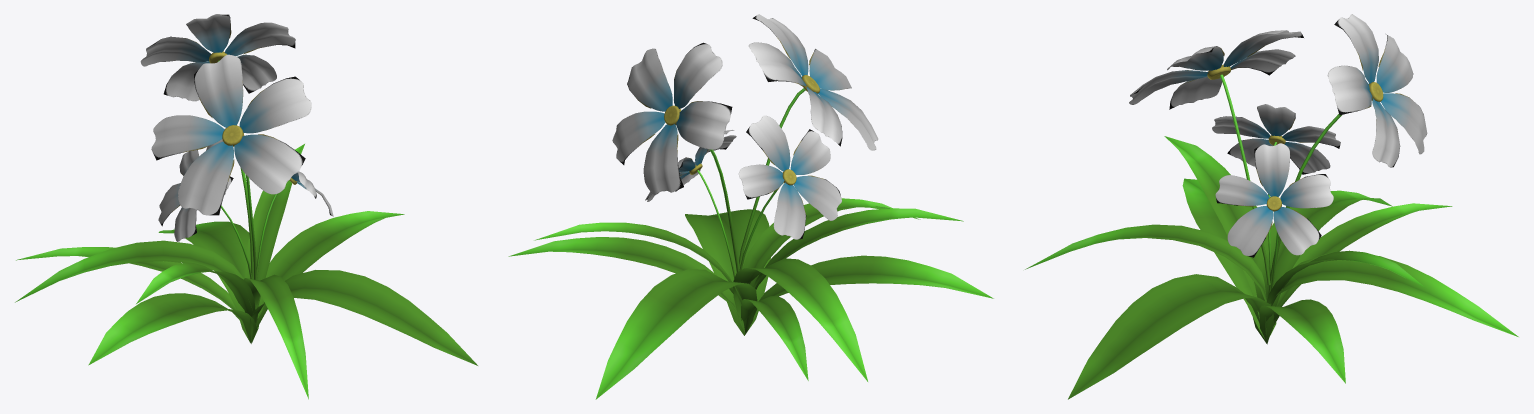
The model's file is SM_Plant_Flower_Big.fbx.
The picture shows the model from 3 angles, left to right: view 1: azimuth 30°, elevation 25°; view 2: azimuth 150°, elevation 25°; view 3: azimuth 270°, elevation 25°; orthographic projection. The views are drawn at different scales.
Visible parts, largest first — view 1: SM_Plant_Flower_Big; view 2: SM_Plant_Flower_Big; view 3: SM_Plant_Flower_Big.
Part boxes in pixels (x1,y1,x2,y2): SM_Plant_Flower_Big: (15, 14, 477, 399); SM_Plant_Flower_Big: (508, 14, 993, 399); SM_Plant_Flower_Big: (1025, 14, 1518, 399).
Size of the model in its own units: 71.46 by 73.03 by 53.07.
1 material, 1 textured.
